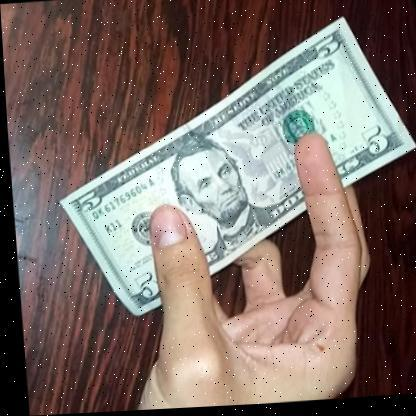dollar_front: (44, 15, 416, 318)
